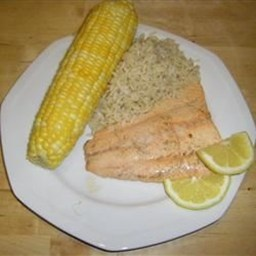background: (10, 0, 102, 84)
